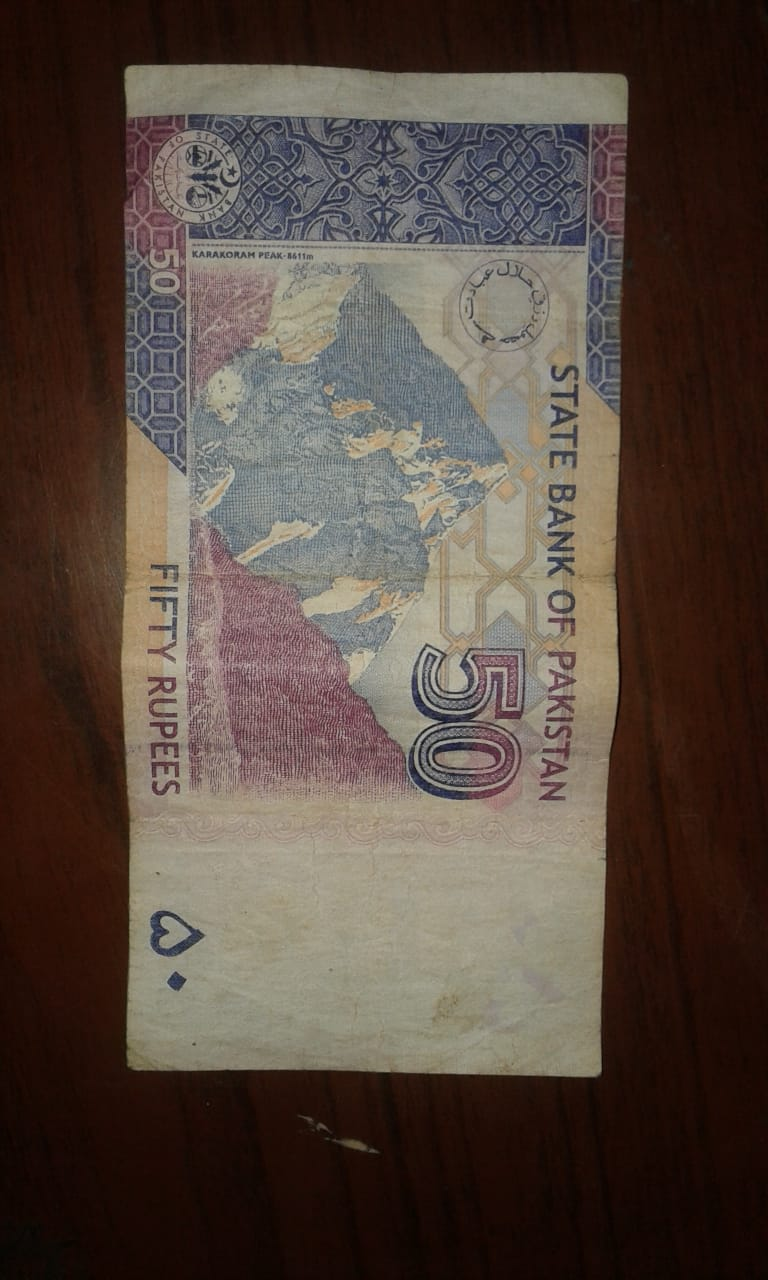50 rupee: (84, 44, 632, 1152)
